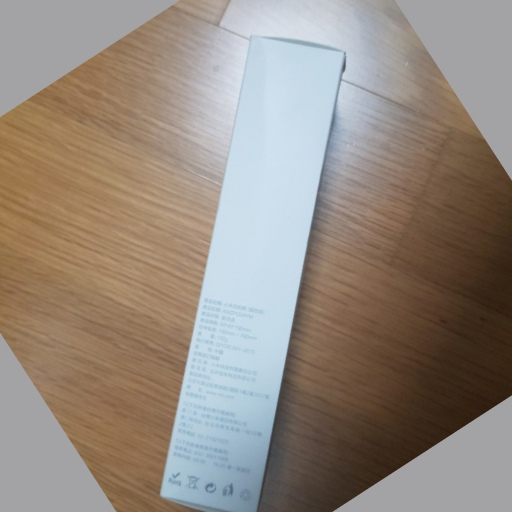Paper_0: (157, 30, 355, 512)
